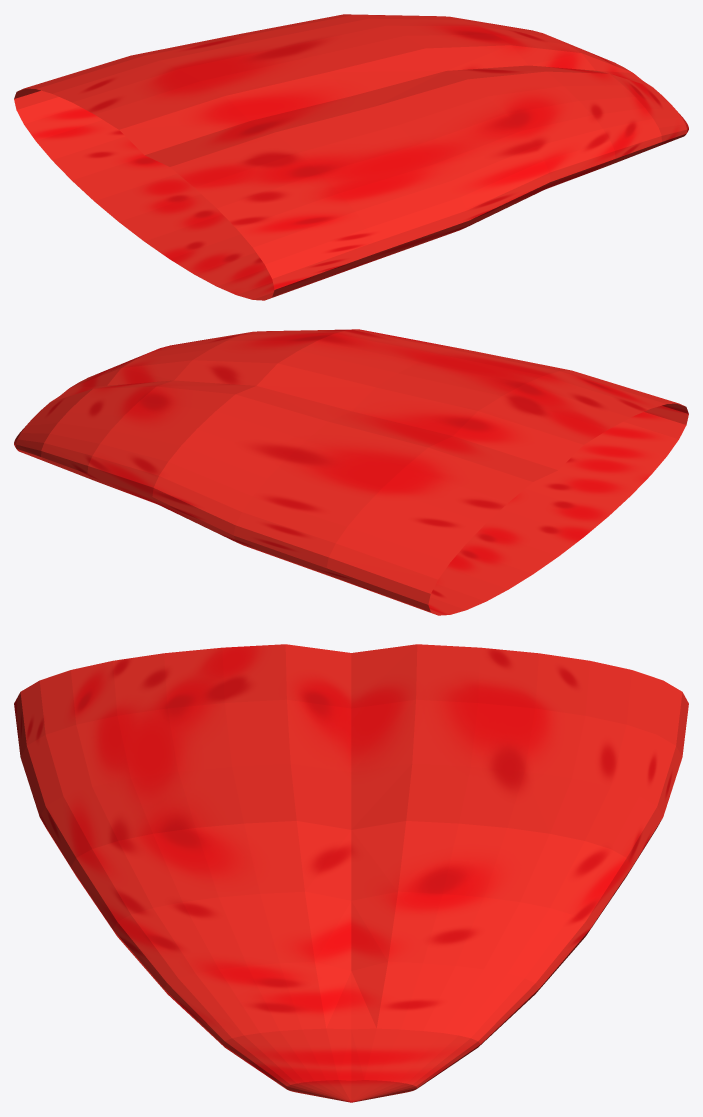
File: piranha plant_lengua.obj
The picture shows the model from 3 angles, top to bottom: view 1: azimuth 30°, elevation 25°; view 2: azimuth 150°, elevation 25°; view 3: azimuth 270°, elevation 25°; orthographic projection. The views are drawn at different scales.
Visible parts, largest first — view 1: Esfera.002; view 2: Esfera.002; view 3: Esfera.002.
Boxes of the visible parts, left/top/right/bottom form: Esfera.002: left=14, top=14, right=688, bottom=300; Esfera.002: left=14, top=329, right=688, bottom=615; Esfera.002: left=14, top=644, right=688, bottom=1102.
Bounding box in the file's own units: 0.9228 × 0.181 × 0.7887.
Materials: 1 (1 with a texture image).
